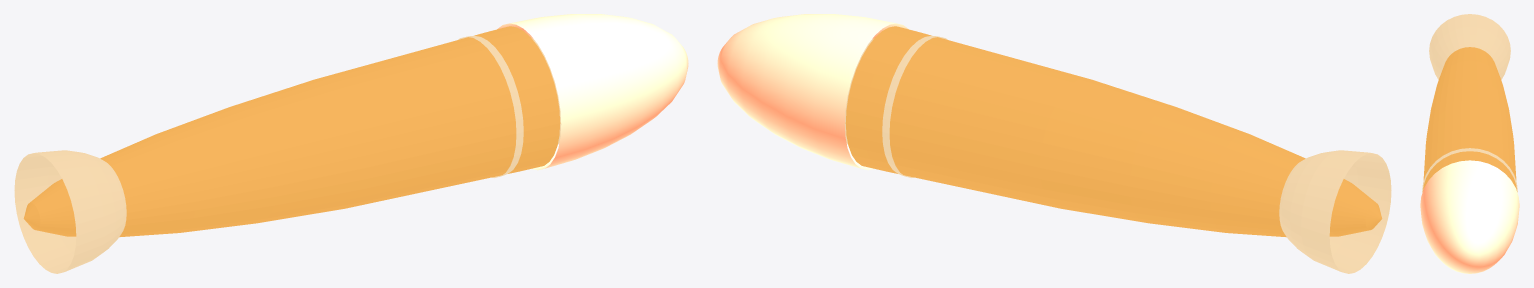
The model's file is RocketOrange.glb.
The picture shows the model from 3 angles, left to right: view 1: azimuth 30°, elevation 25°; view 2: azimuth 150°, elevation 25°; view 3: azimuth 270°, elevation 25°; orthographic projection. The views are drawn at different scales.
Parts seen in each view (by area): view 1: Main Exhaust, Bell, End Wave, Bell Wave; view 2: Main Exhaust, Bell, End Wave, Bell Wave; view 3: Bell, Main Exhaust, End Wave, Bell Wave.
Boxes of the visible parts, <box> form: Main Exhaust: <box>23,26,560,237</box>; Bell: <box>497,14,688,170</box>; End Wave: <box>14,150,126,273</box>; Bell Wave: <box>458,35,561,177</box>; Main Exhaust: <box>845,26,1382,237</box>; Bell: <box>717,14,908,170</box>; End Wave: <box>1279,150,1391,273</box>; Bell Wave: <box>844,35,947,177</box>; Bell: <box>1420,160,1519,273</box>; Main Exhaust: <box>1423,47,1516,190</box>; End Wave: <box>1429,14,1510,79</box>; Bell Wave: <box>1422,148,1517,192</box>.
Size of the model in its own units: 10.56 by 2.08 by 2.08.
